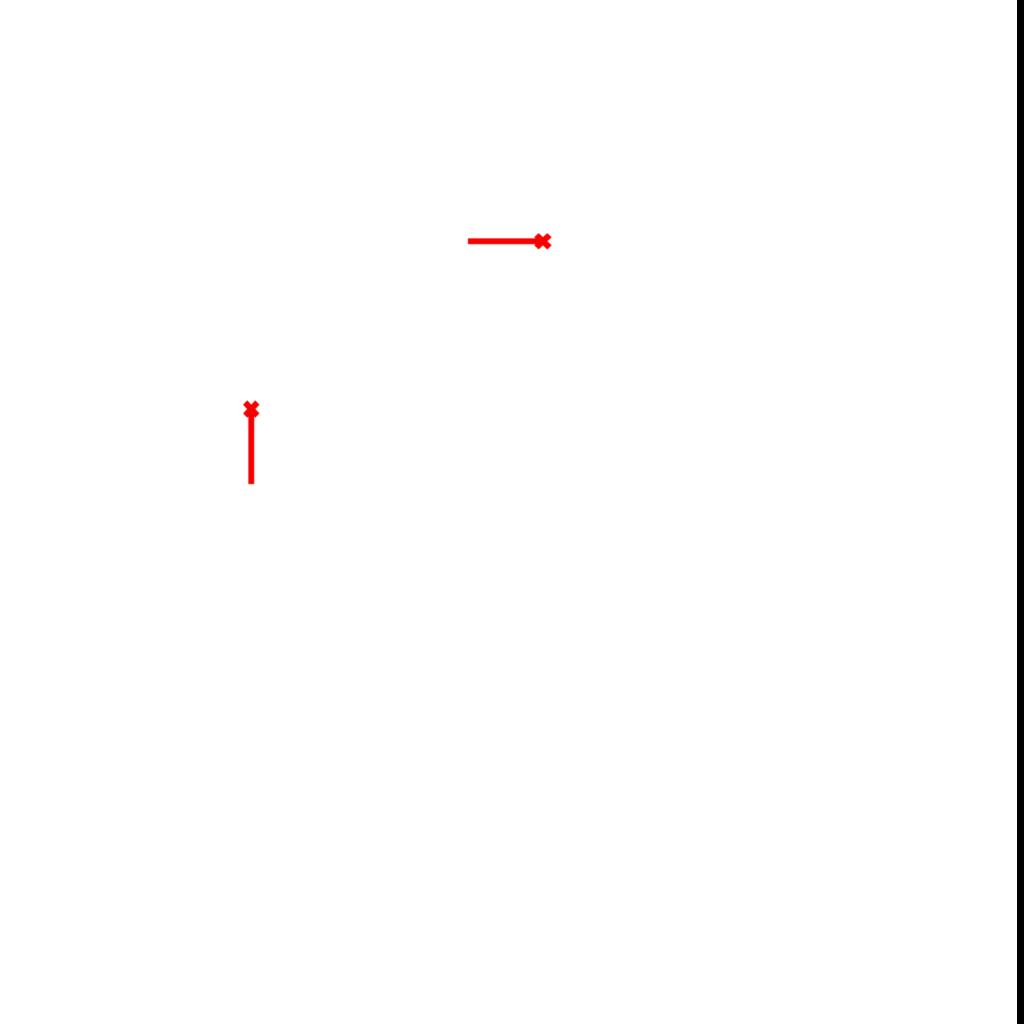ASR_Ansaugoeffnung: (241, 399, 264, 487), (465, 231, 553, 254)
